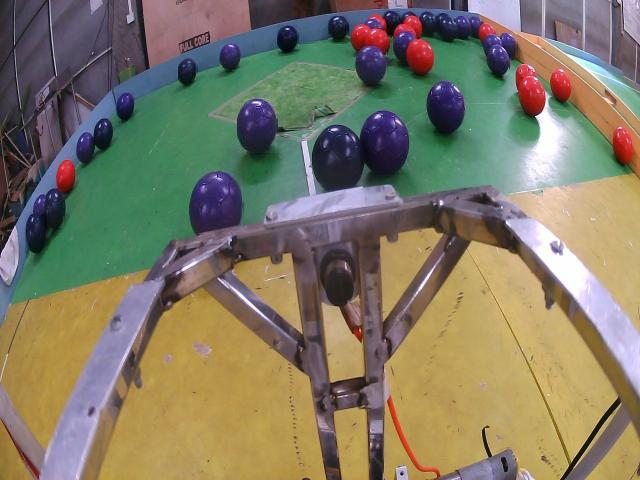jambhalya: (190, 172, 243, 234), (360, 110, 410, 175), (237, 99, 277, 153), (426, 82, 465, 133), (356, 46, 387, 84), (393, 32, 415, 64), (487, 45, 509, 76), (76, 132, 95, 163), (220, 45, 241, 71), (116, 93, 134, 122), (500, 32, 517, 58), (455, 15, 471, 40), (483, 34, 502, 55), (469, 15, 482, 38), (33, 194, 46, 214), (365, 18, 383, 30), (400, 10, 416, 22)
kaalyya: (311, 125, 365, 190), (356, 46, 387, 84), (26, 214, 47, 253), (44, 189, 64, 228), (393, 32, 415, 64), (437, 13, 458, 42), (277, 25, 298, 53), (94, 118, 112, 150), (178, 58, 197, 85), (328, 16, 348, 41), (384, 10, 401, 36), (420, 11, 437, 36)
